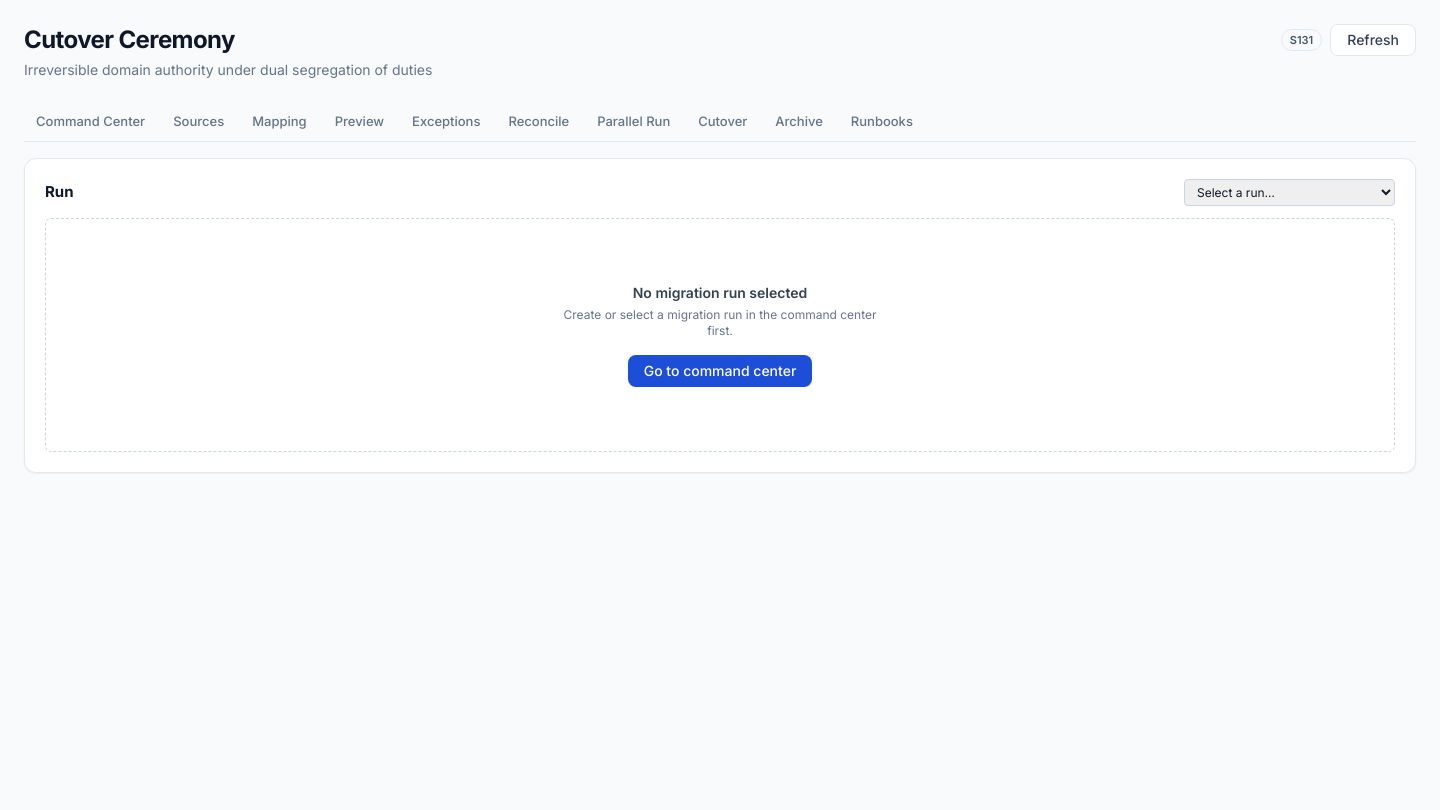
Test case: MigrationCutover › lists unmet prerequisites and refuses to imply readiness
Select "run-a · READY_FOR_CUTOVER" in the dropdown with test id "cutover-run-select" at {"x": 1290, "y": 192}, box [1184,178,1395,206]
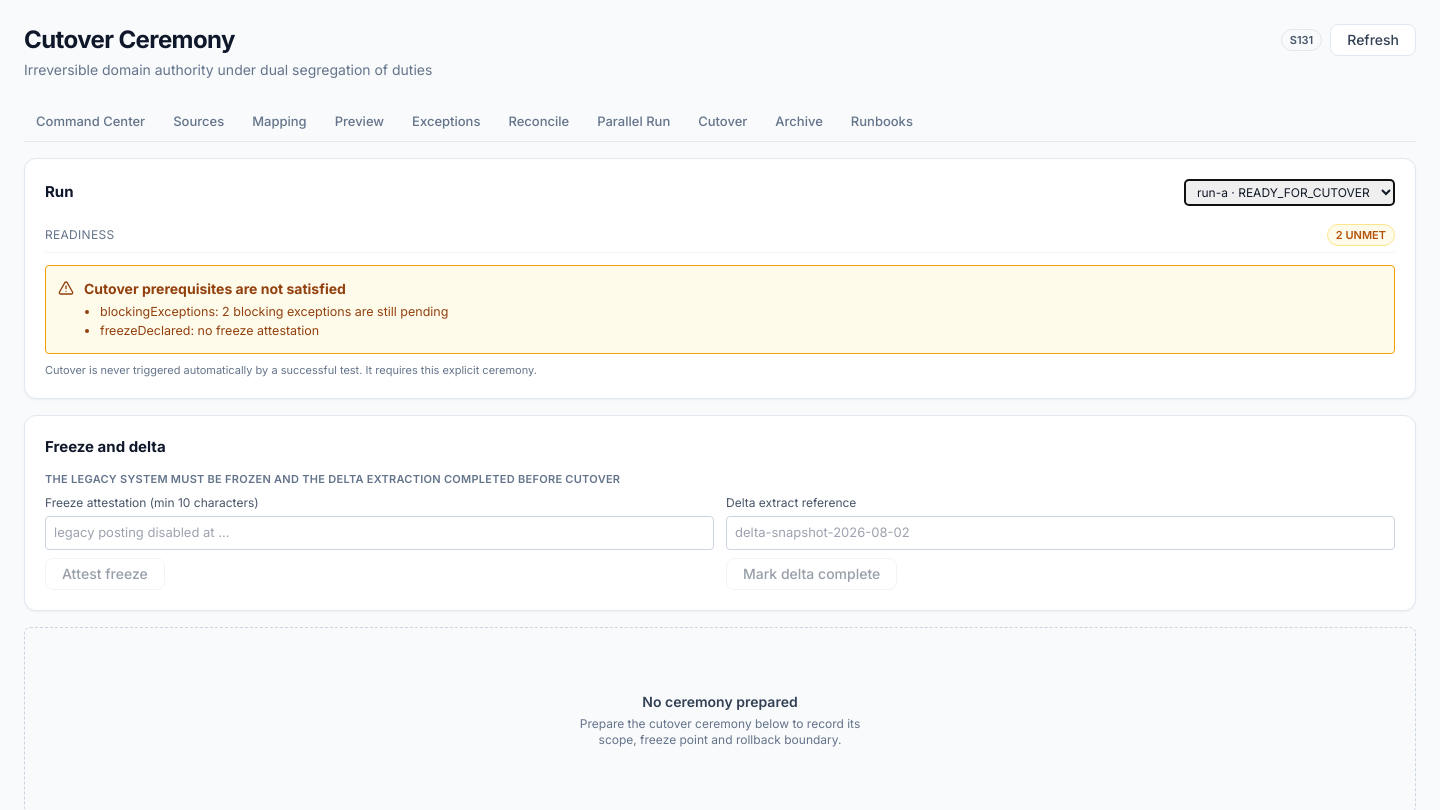
Now the element with test id "cutover-unmet" is shown, box [45,265,1395,354]
Now the text with test id "cutover-readiness-badge" reads "2 UNMET", box [1336,228,1386,242]
